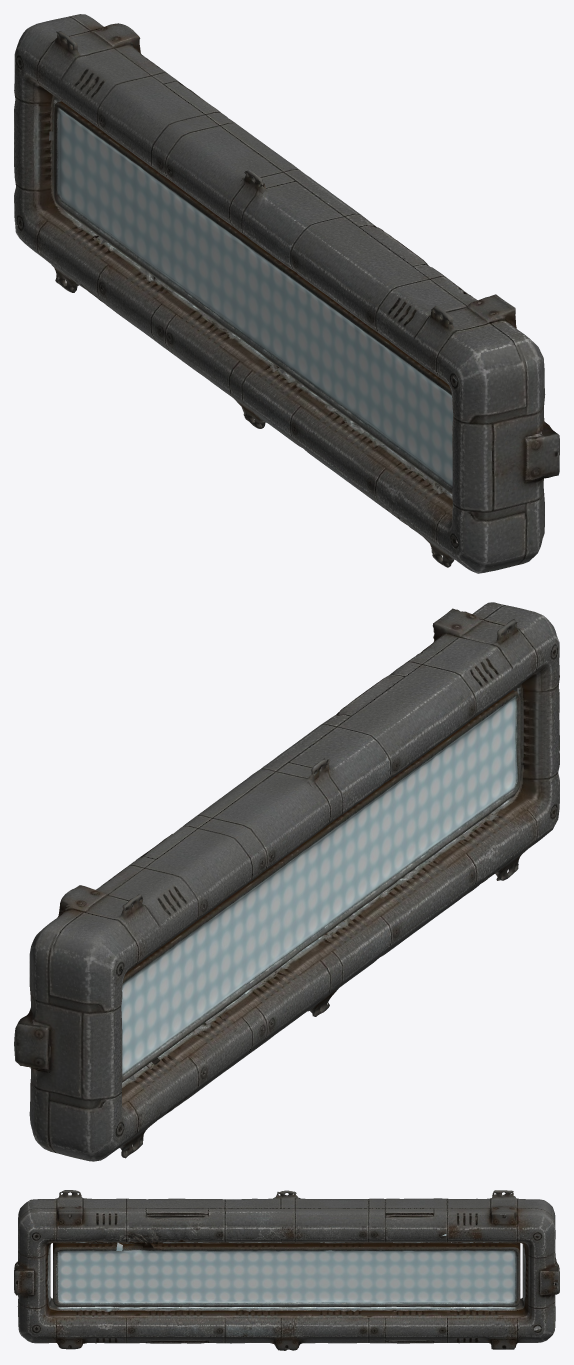
File: industrial+light+bar+3d+model (1).glb
3 renders of one model, top to bottom at view 1: azimuth 30°, elevation 25°; view 2: azimuth 150°, elevation 25°; view 3: azimuth 270°, elevation 25°, orthographic. The views are drawn at different scales.
Visible parts, largest first — view 1: tripo_node_9aaa1971-a5a6-4359-9a0c-18e408763502; view 2: tripo_node_9aaa1971-a5a6-4359-9a0c-18e408763502; view 3: tripo_node_9aaa1971-a5a6-4359-9a0c-18e408763502.
Boxes of the visible parts, bbox=[...] form: tripo_node_9aaa1971-a5a6-4359-9a0c-18e408763502: bbox=[14, 14, 559, 573]; tripo_node_9aaa1971-a5a6-4359-9a0c-18e408763502: bbox=[14, 602, 559, 1161]; tripo_node_9aaa1971-a5a6-4359-9a0c-18e408763502: bbox=[14, 1190, 559, 1350].
Bounding box in the file's own units: 0.1076 × 0.2888 × 0.9772.
Materials: 1 (1 with a texture image).
